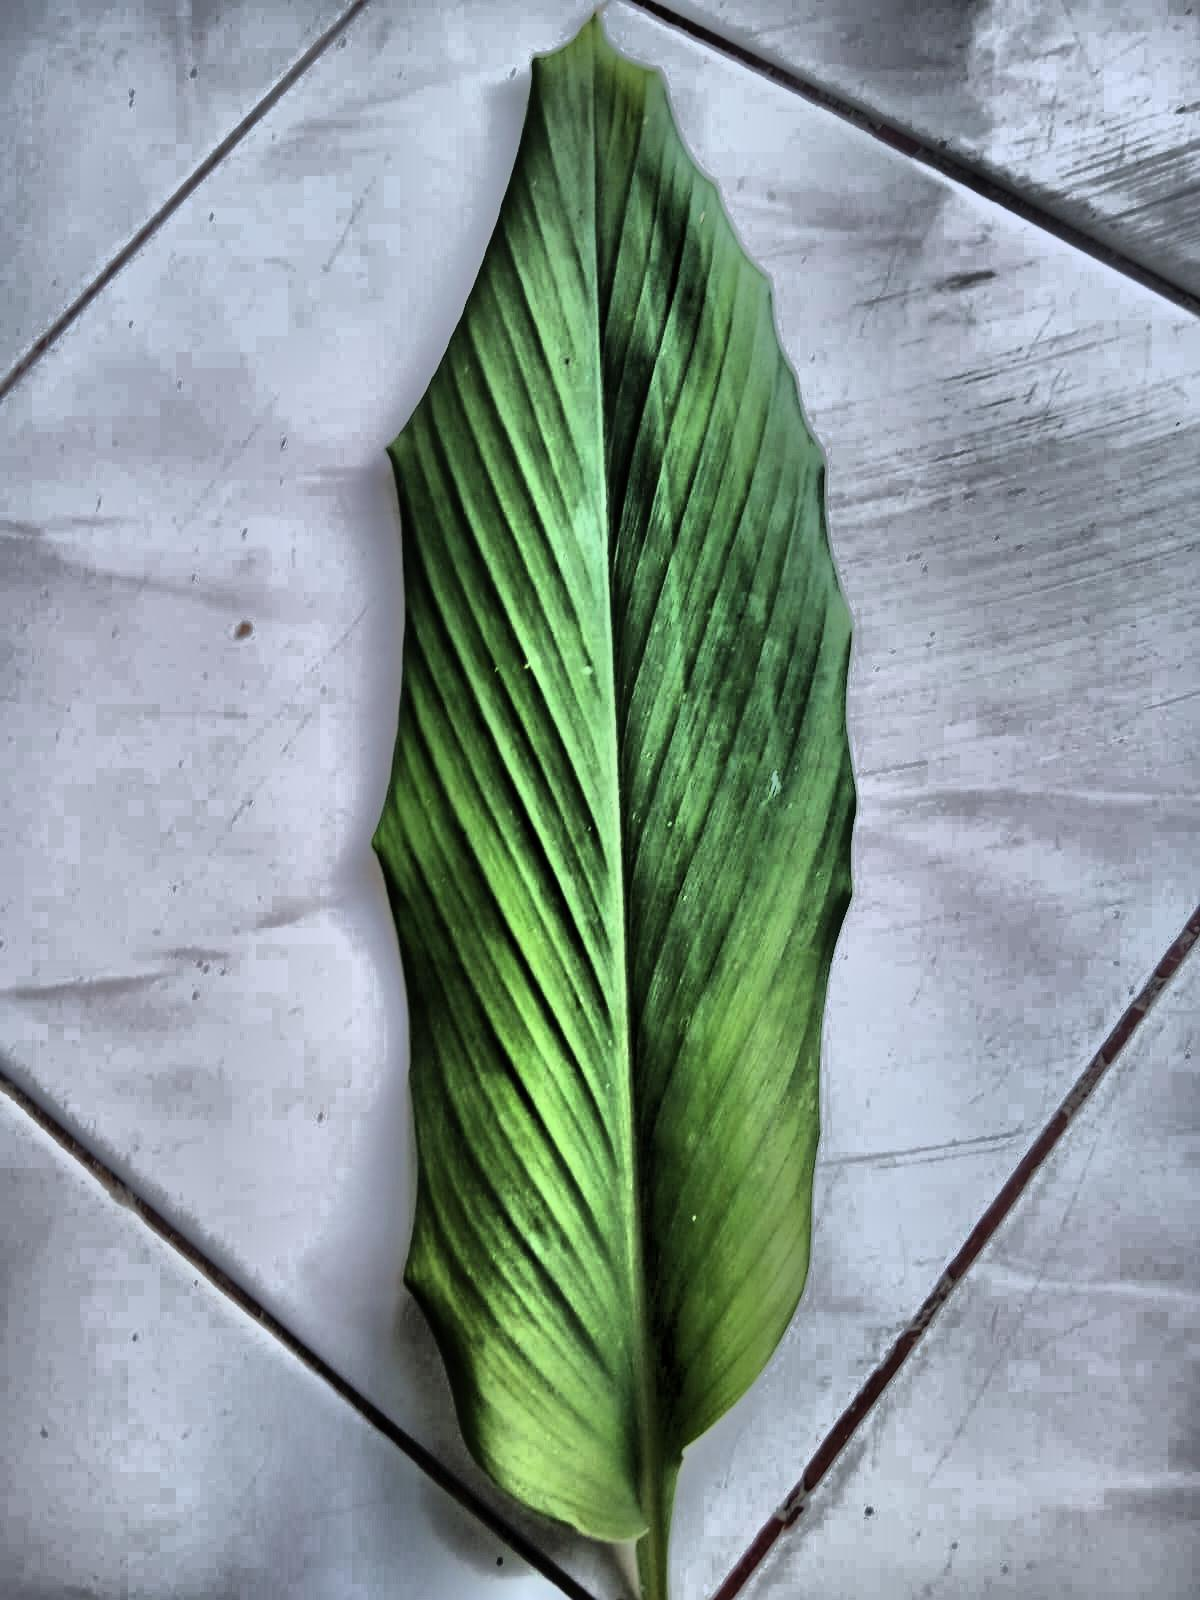daun kunyit: (373, 16, 855, 1599)
